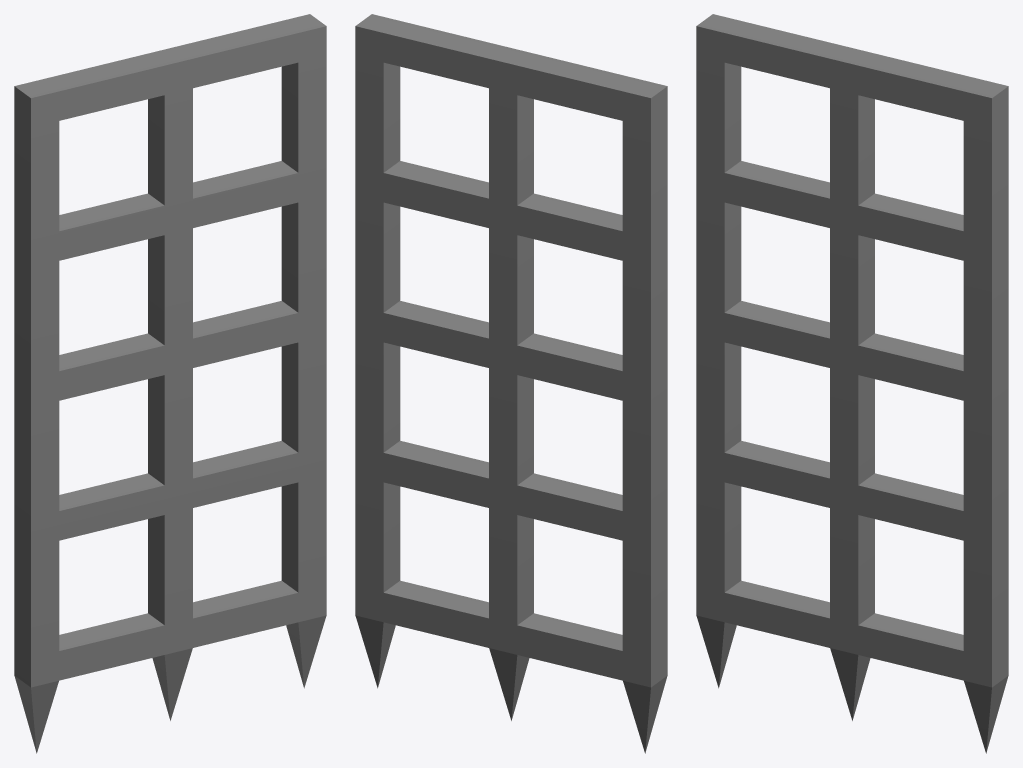
File: Mini_Iron_Door.fbx
3 renders of one model, left to right at view 1: azimuth 30°, elevation 25°; view 2: azimuth 150°, elevation 25°; view 3: azimuth 330°, elevation 25°, orthographic.
Parts seen in each view (by area): view 1: Mini_Iron_Door; view 2: Mini_Iron_Door; view 3: Mini_Iron_Door.
Boxes of the visible parts, x1=… form: Mini_Iron_Door: x1=14, y1=14, x2=326, y2=753; Mini_Iron_Door: x1=355, y1=14, x2=667, y2=753; Mini_Iron_Door: x1=696, y1=14, x2=1008, y2=753.
Size of the model in its own units: 73.71 by 158 by 7.15.
Materials: 1 (1 with a texture image).
